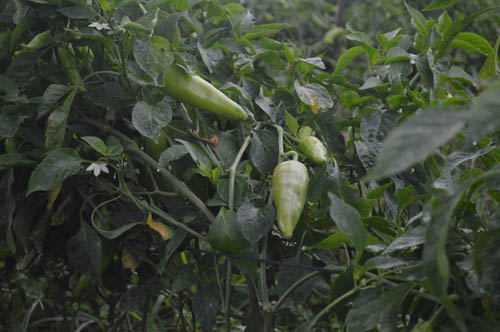ChiliPepper: (164, 64, 248, 119), (272, 159, 306, 240), (296, 136, 330, 164)
